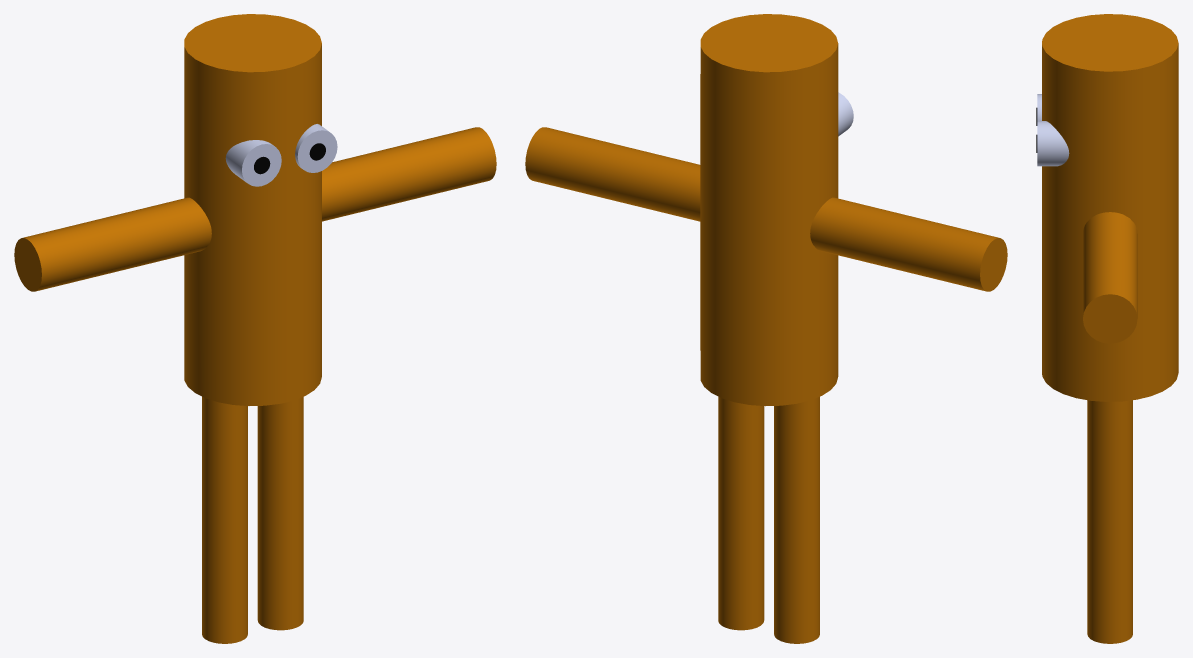
Rendered from sahur.glb.
3 views of the same model, side by side, from view 1: azimuth 30°, elevation 25°; view 2: azimuth 150°, elevation 25°; view 3: azimuth 270°, elevation 25° (orthographic).
Visible parts, largest first — view 1: sahur; view 2: sahur; view 3: sahur.
Boxes of the visible parts, x1=… form: sahur: x1=14, y1=14, x2=496, y2=643; sahur: x1=525, y1=14, x2=1007, y2=643; sahur: x1=1036, y1=14, x2=1178, y2=643.
Size of the model in its own units: 0.057 by 0.07 by 0.0156.
